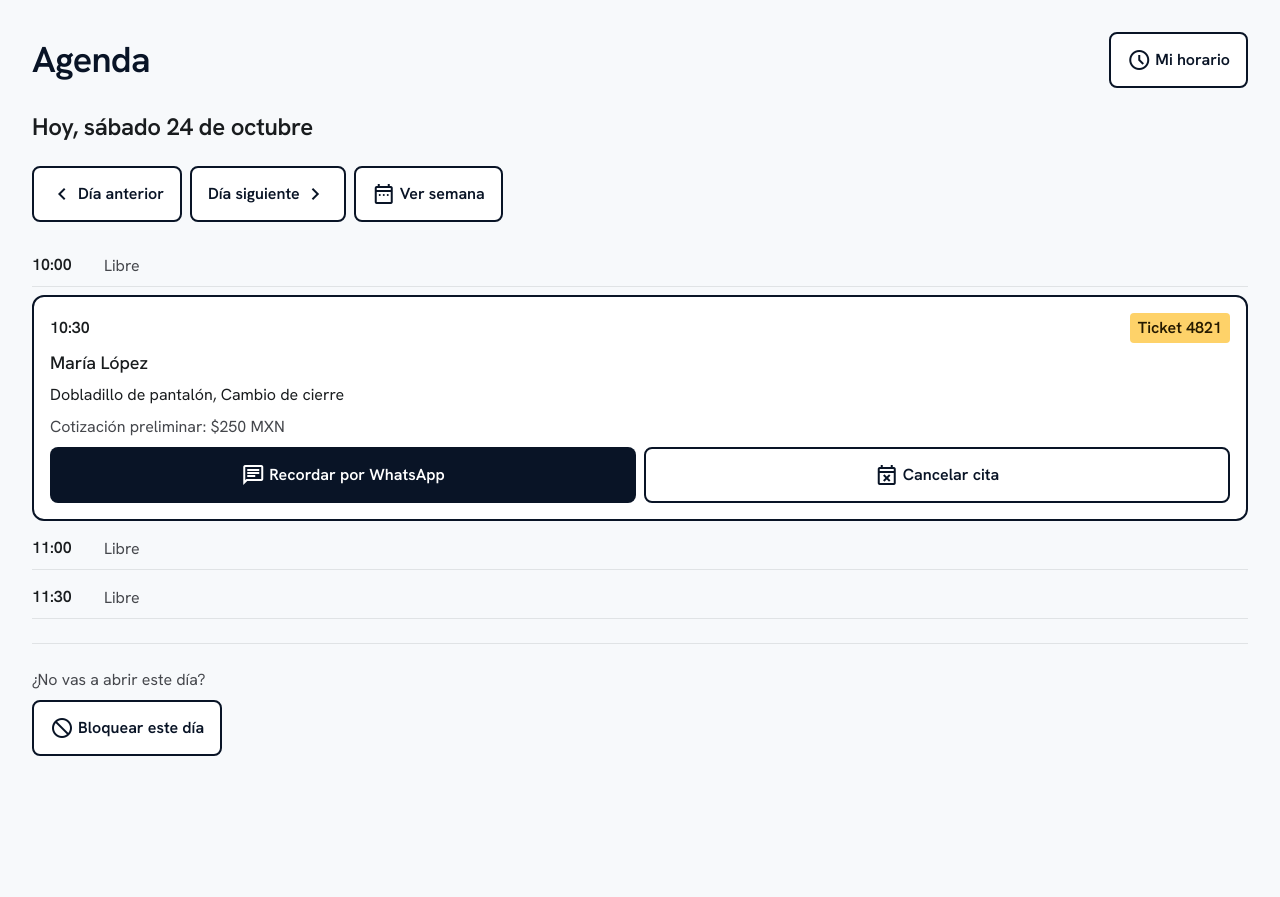
Block a day › blocks an open day without appointments once confirmed, and unblocks it
This screenshot has width=1280, height=897.
Click the button "Día siguiente" at (268, 194), box 190,166 -> 346,222
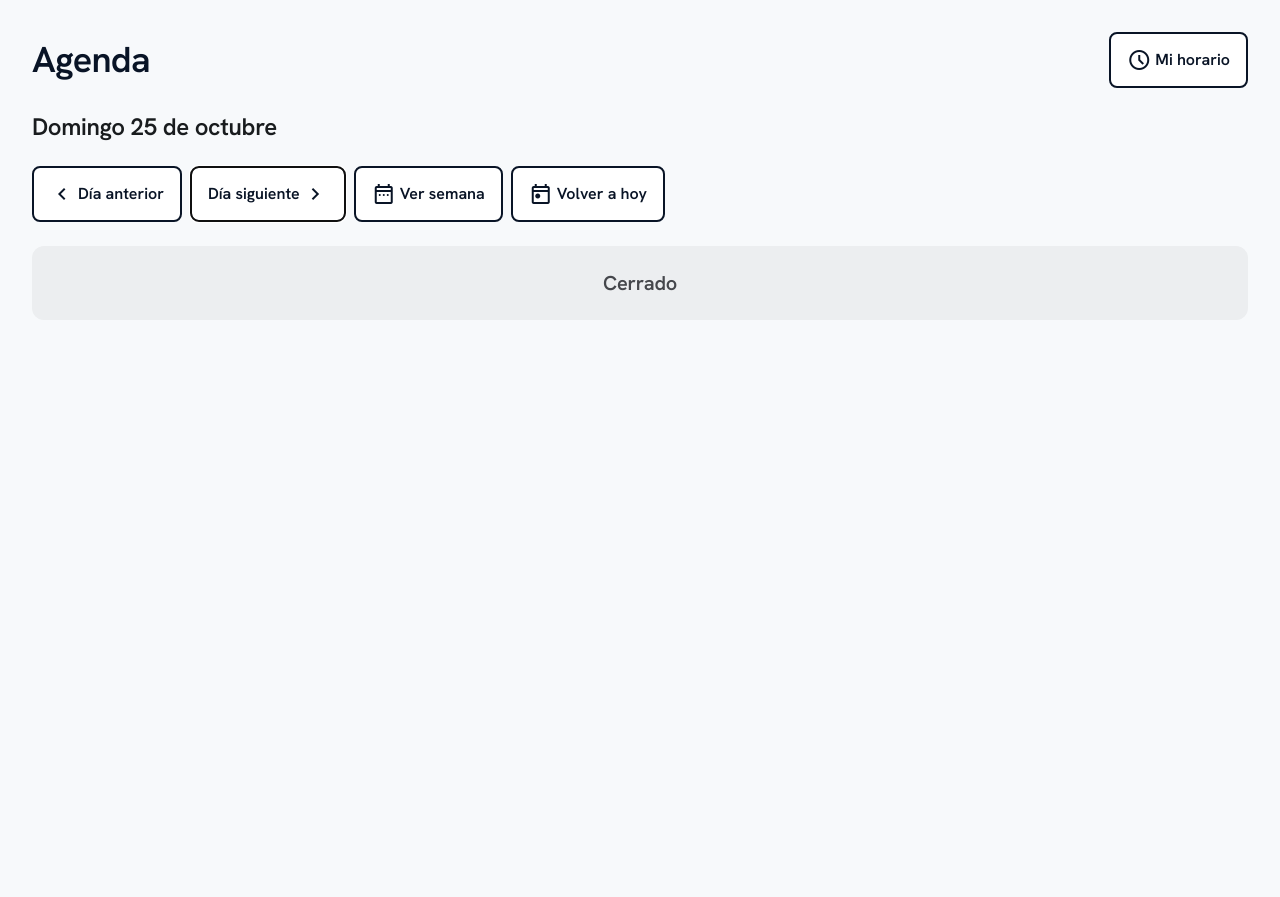
Click the button "Día siguiente" at (268, 194), box 190,166 -> 346,222
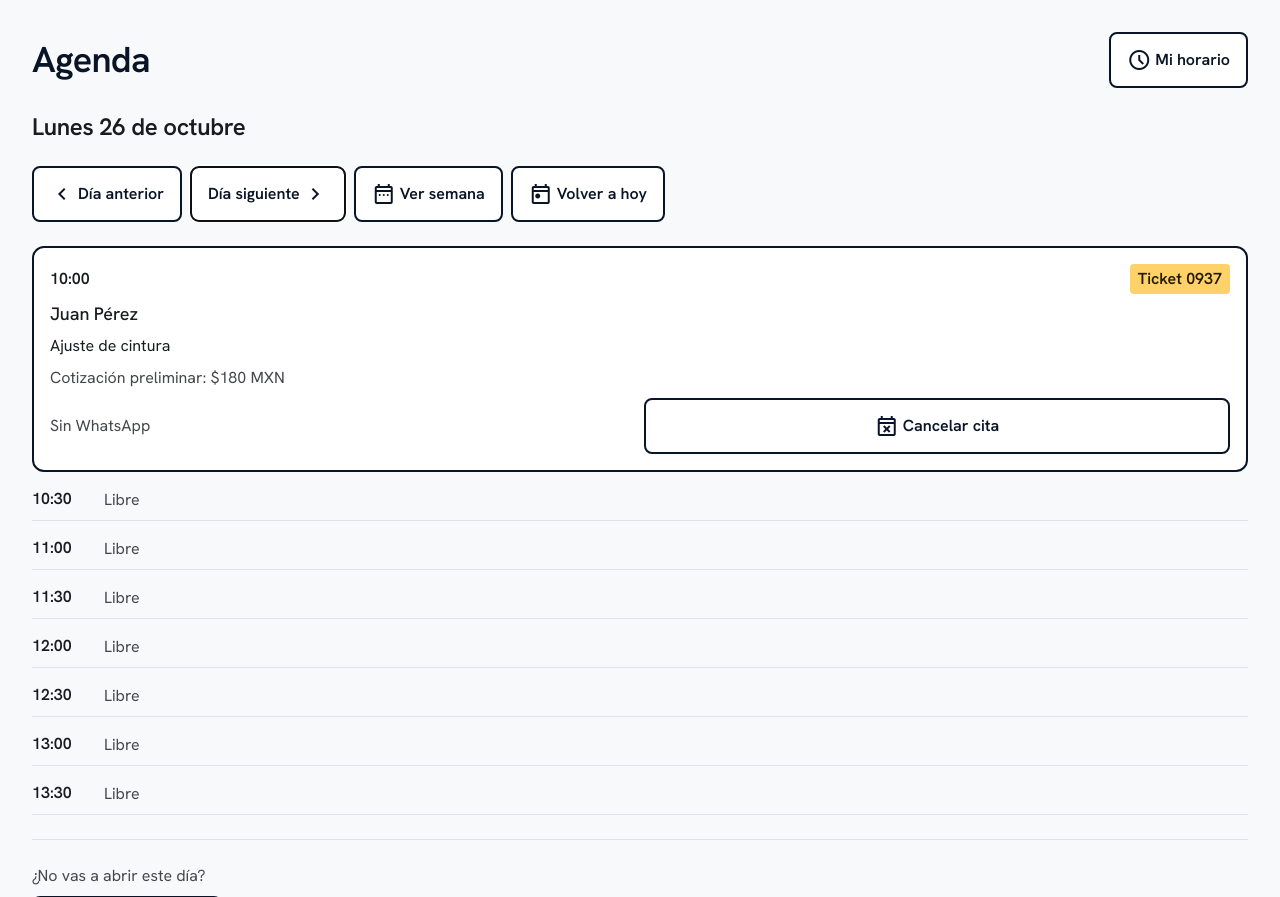
Click the button "Día siguiente" at (268, 194), box 190,166 -> 346,222
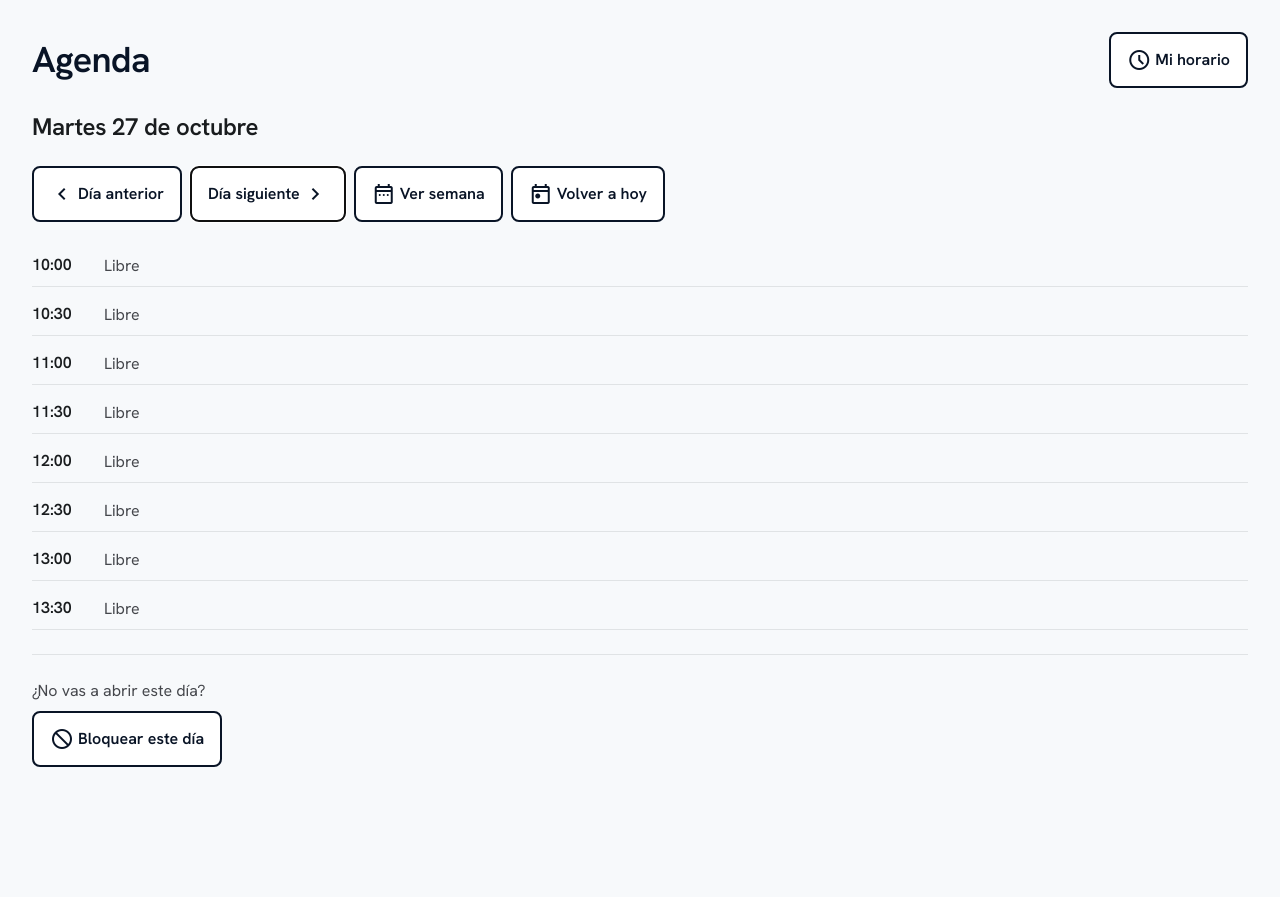
Expected: the heading "Martes 27 de octubre" is shown, 32,111 -> 258,142
Click the button "Bloquear este día" at (127, 739), box 32,711 -> 222,767
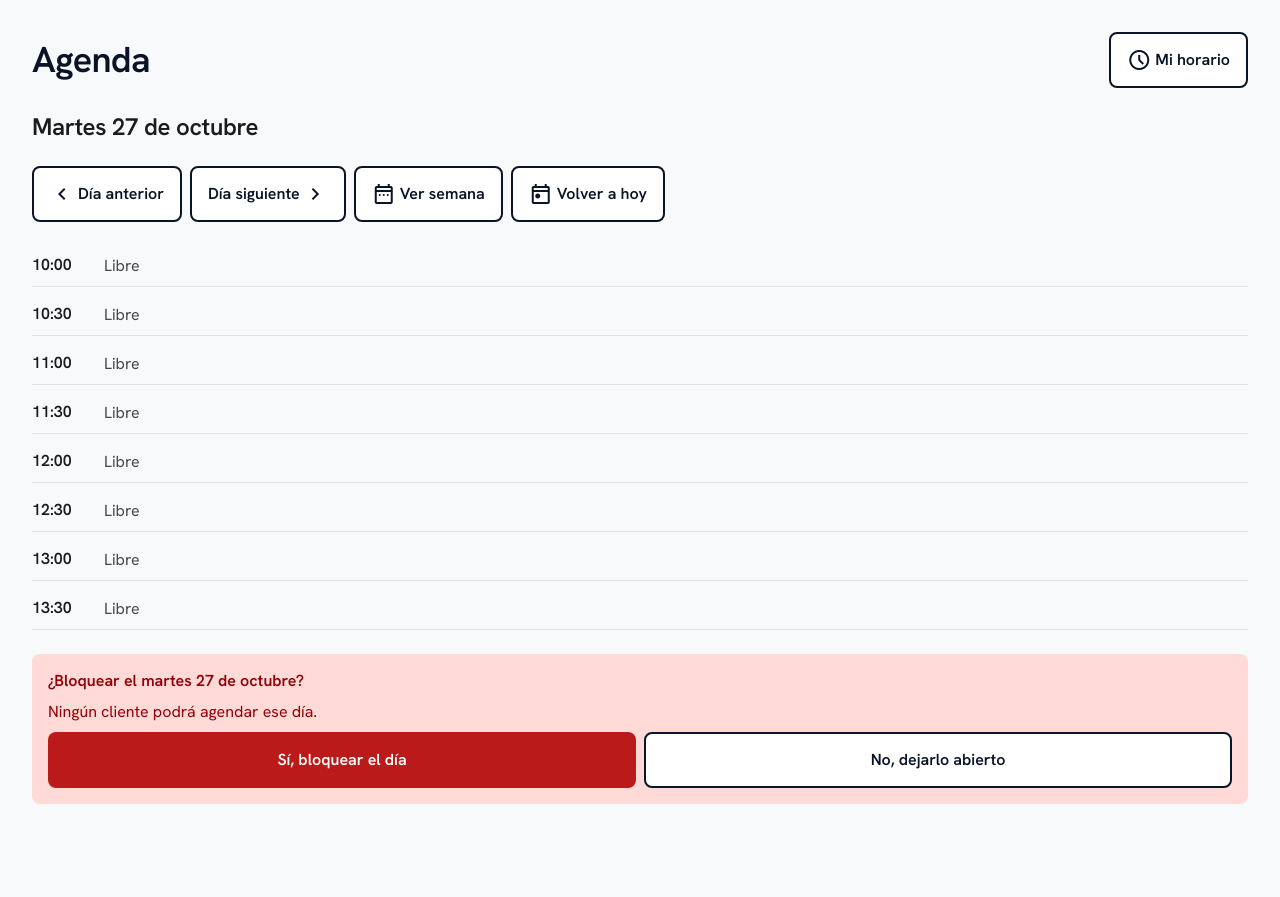
Expected: the text "¿Bloquear el martes 27 de octubre?" is shown, 48,670 -> 304,691
Click the button "Sí, bloquear el día" at (342, 760), box 48,732 -> 636,788
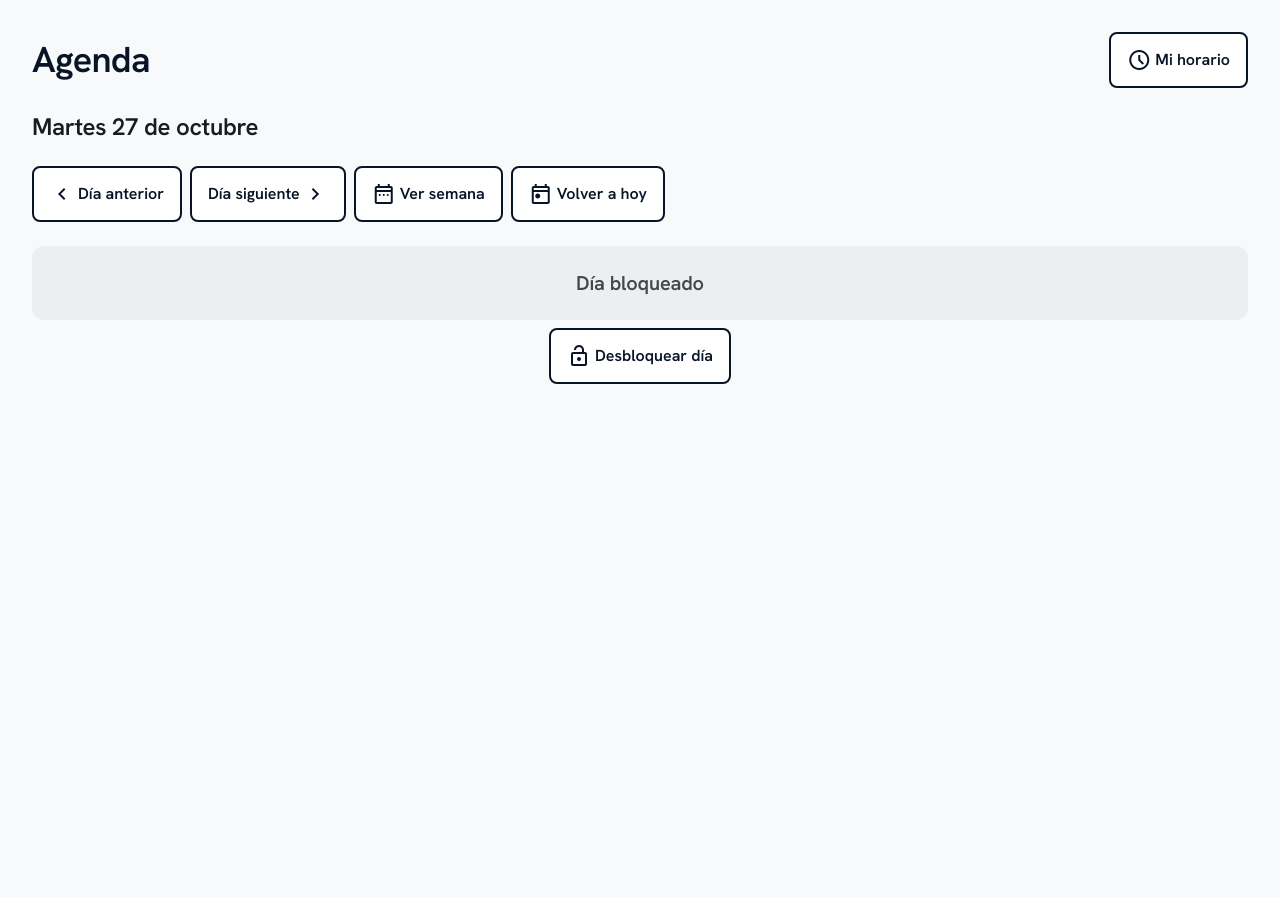
Expected: the text "Día bloqueado" is shown, 32,246 -> 1248,320
Click the button "Desbloquear día" at (640, 356), box 549,328 -> 731,384
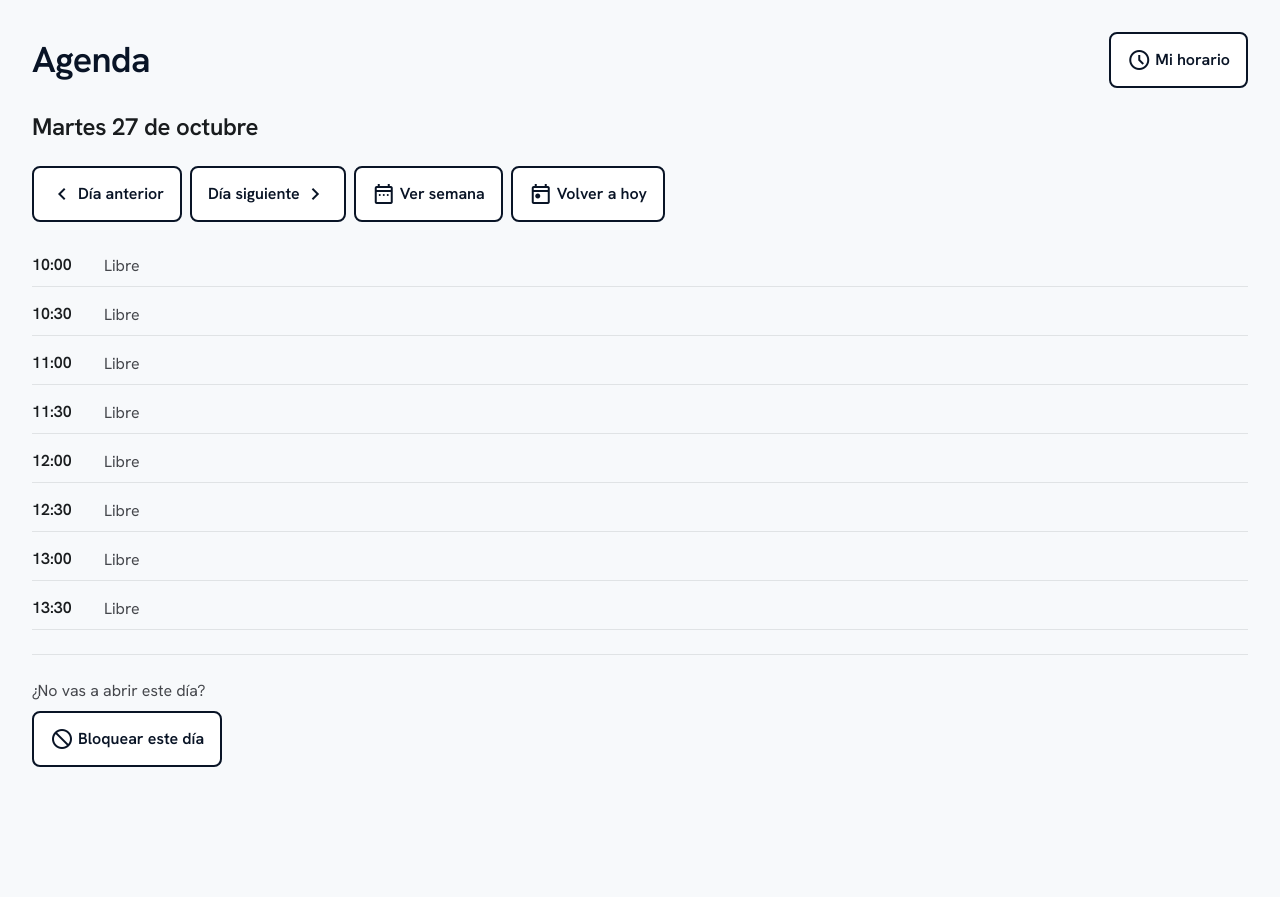
Expected: the list named "Horarios del día" is shown, 32,246 -> 1248,630
Expected: the text "Día bloqueado" is gone
